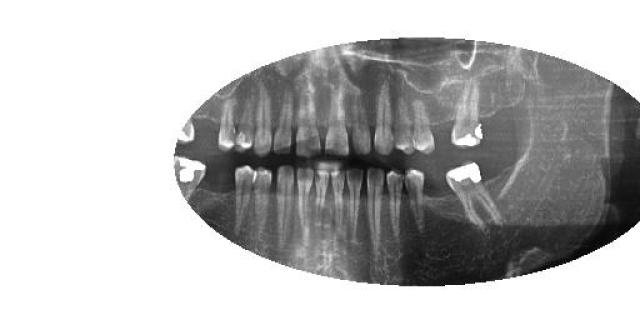Fillings: (446, 161, 502, 225), (452, 80, 483, 148), (174, 154, 208, 201)
